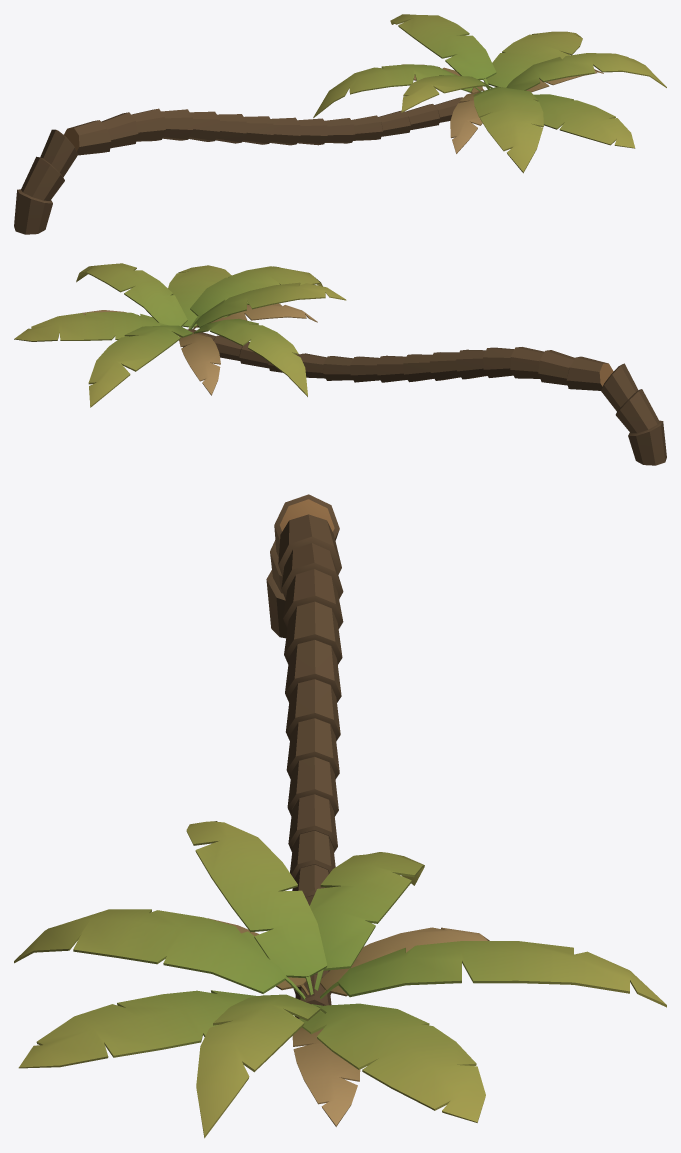
The model's file is PalmTree_06.fbx.
The picture shows the model from 3 angles, top to bottom: view 1: azimuth 30°, elevation 25°; view 2: azimuth 150°, elevation 25°; view 3: azimuth 270°, elevation 25°; orthographic projection. The views are drawn at different scales.
Parts seen in each view (by area): view 1: PalmTree_06_LOD0; view 2: PalmTree_06_LOD0; view 3: PalmTree_06_LOD0.
Boxes of the visible parts, box(x1,y1,x2,y2) form: PalmTree_06_LOD0: box(14, 14, 666, 234); PalmTree_06_LOD0: box(14, 263, 666, 465); PalmTree_06_LOD0: box(14, 494, 666, 1138).
Size of what is drawn, in the model's own units: 5.17 by 0.7103 by 2.64.
